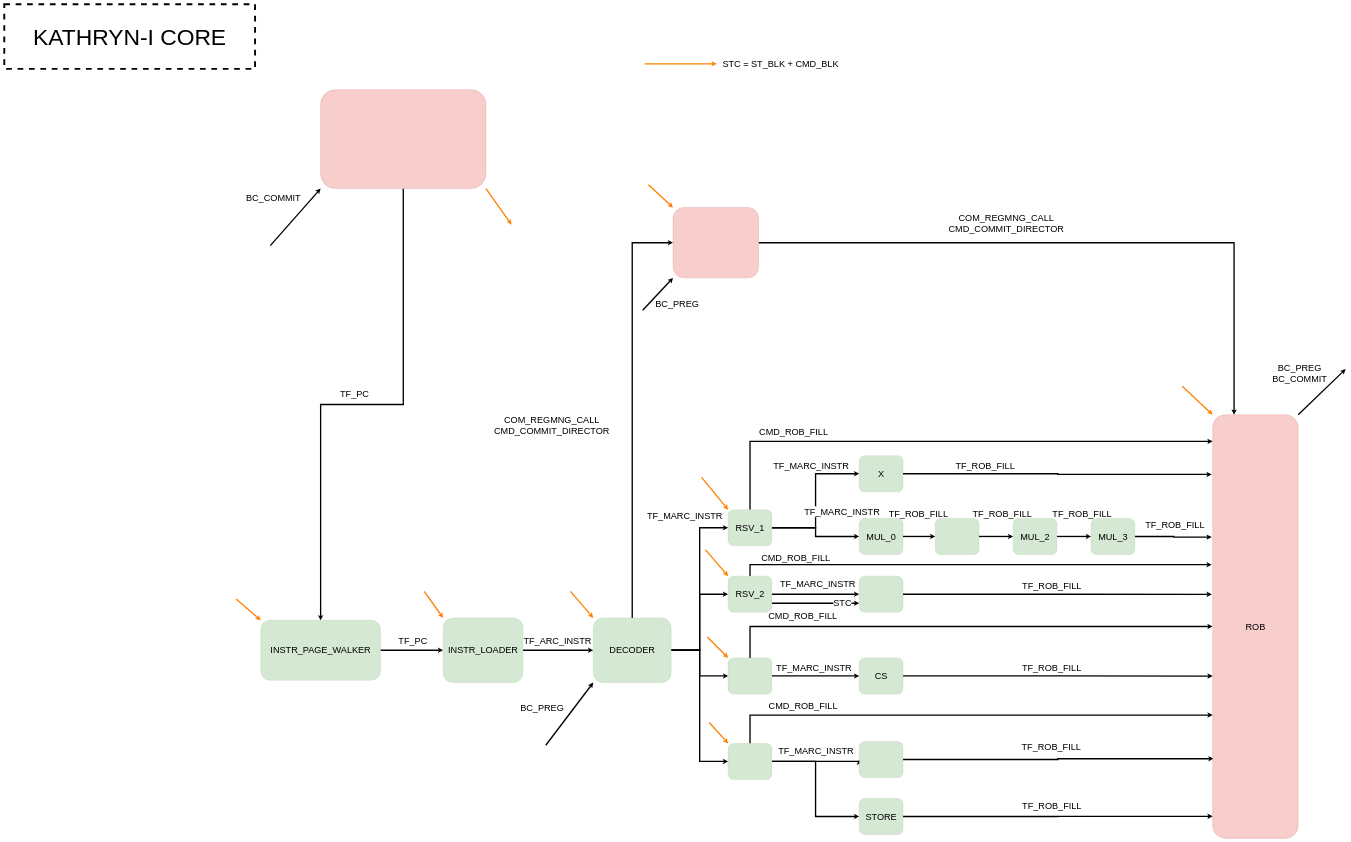
This 1351x842 diagram has some shape labels left out. Here are the shapes that lost their labels. From the top down, the centre of each, then its label:
pixel 403 139: CORE_CONTROL_FLOW
pixel 716 242: REG_MNG
pixel 957 536: MUL_1
pixel 881 594: DIV
pixel 750 676: RSV_3
pixel 750 761: RSV_4
pixel 881 759: LOADER
